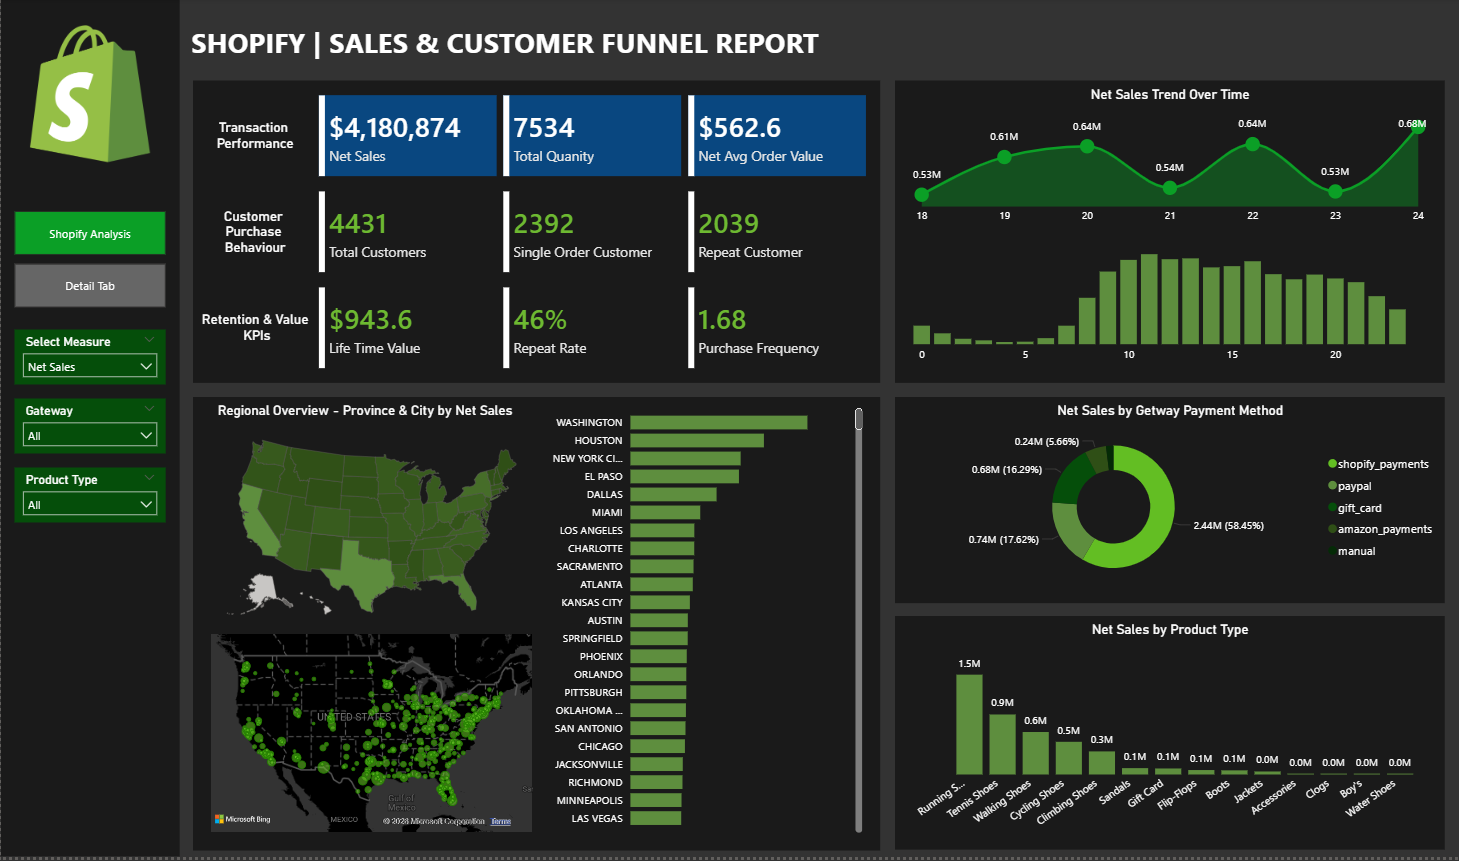

This screenshot's page, from the dashboard's own definition file:
{"tool":"powerbi","page":{"name":"Shopify Analysis ","canvas":[1700,1000],"ordinal":0},"visuals":[{"type":"shape","box":[0,-8,208,1008],"z":0},{"type":"textbox","box":[216,24,768,120],"z":1000},{"type":"shape","box":[224,96,800,352],"z":2000},{"type":"cardVisual","fields":{"Data":["shopify_sales.Net Sales","shopify_sales.Total Quanity","shopify_sales.Net Avg Order Value"]},"box":[352,96,672,128],"z":3000},{"type":"card","fields":{"Values":["shopify_sales.Transaction Pref"]},"box":[224,112,144,96],"z":4000},{"type":"cardVisual","fields":{"Data":["shopify_sales.Total Customers","shopify_sales.Single Order Customer","shopify_sales.Repeat Customer"]},"box":[352,208,672,128],"z":5000},{"type":"card","fields":{"Values":["shopify_sales.Customer Purchase Behaviour"]},"box":[224,224,144,96],"z":6000},{"type":"cardVisual","fields":{"Data":["shopify_sales.Life Time Value","shopify_sales.Repeat Rate","shopify_sales.Purchase Frequency"]},"box":[352,320,672,128],"z":7000},{"type":"card","fields":{"Values":["shopify_sales.Retention and Value KPIs"]},"box":[224,336,144,96],"z":8000},{"type":"shape","box":[224,464,800,528],"z":9000},{"type":"shapeMap","fields":{"Category":["shopify_sales.Billing Address Province"],"Value":["shopify_sales.Net Sales"]},"box":[240,496,384,240],"z":10000},{"type":"slicer","fields":{"Values":["Select Measure.Select Measure"]},"box":[15.3,386.4,176,64],"z":11000},{"type":"map","fields":{"Size":["shopify_sales.Net Sales"],"Category":["shopify_sales.Location"]},"box":[240,736,384,240],"z":12000},{"type":"clusteredBarChart","fields":{"Y":["shopify_sales.Net Sales"],"Category":["shopify_sales.CITY"]},"box":[624,464,384,512],"z":13000},{"type":"card","fields":{"Values":["shopify_sales.Map"]},"box":[224,464,400,32],"z":14000},{"type":"shape","box":[1040,96,640,352],"z":15000},{"type":"areaChart","fields":{"Y":["shopify_sales.Net Sales"],"Category":["shopify_sales.Invoice Date.Variation.Date Hierarchy.Day"]},"box":[1056,128,608,144],"z":16000},{"type":"columnChart","fields":{"Y":["shopify_sales.Net Sales"],"Category":["shopify_sales.1 Hour"]},"box":[1056,256,608,176],"z":17000},{"type":"card","fields":{"Values":["shopify_sales.Trend Title"]},"box":[1040,96,640,32],"z":18000},{"type":"shape","box":[1040,464,640,240],"z":19000},{"type":"donutChart","fields":{"Y":["shopify_sales.Net Sales"],"Category":["shopify_sales.Gateway"]},"box":[1040,496,640,192],"z":20000},{"type":"shape","box":[1040,720,640,272],"z":21000},{"type":"columnChart","fields":{"Y":["shopify_sales.Net Sales"],"Category":["shopify_sales.Product Type"]},"box":[1056,752,608,224],"z":22000},{"type":"card","fields":{"Values":["shopify_sales.Getway Title"]},"box":[1040,464,640,32],"z":23000},{"type":"card","fields":{"Values":["shopify_sales.Product Title"]},"box":[1040,720,640,32],"z":24000},{"type":"image","box":[16,32,176,160],"z":25000},{"type":"slicer","fields":{"Values":["shopify_sales.Gateway"]},"box":[15.3,466.4,176,64],"z":26000},{"type":"slicer","fields":{"Values":["shopify_sales.Product Type"]},"box":[15.3,546.4,176,64],"z":27000},{"type":"pageNavigator","box":[16,248,176,112],"z":28000}]}

Visuals, with their boxes on the page's 1700x1000 design canvas (x1, y1, x2, y2). These are canvas units, not pixel positions in the 1459x861 screenshot, which may show the page scaled, cropped or inside an application window:
shape: <region>0, -8, 208, 1000</region>
textbox: <region>216, 24, 984, 144</region>
shape: <region>224, 96, 1024, 448</region>
cardVisual - shopify_sales.Net Sales x shopify_sales.Total Quanity: <region>352, 96, 1024, 224</region>
card - shopify_sales.Transaction Pref: <region>224, 112, 368, 208</region>
cardVisual - shopify_sales.Total Customers x shopify_sales.Single Order Customer: <region>352, 208, 1024, 336</region>
card - shopify_sales.Customer Purchase Behaviour: <region>224, 224, 368, 320</region>
cardVisual - shopify_sales.Life Time Value x shopify_sales.Repeat Rate: <region>352, 320, 1024, 448</region>
card - shopify_sales.Retention and Value KPIs: <region>224, 336, 368, 432</region>
shape: <region>224, 464, 1024, 992</region>
shapeMap - shopify_sales.Billing Address Province x shopify_sales.Net Sales: <region>240, 496, 624, 736</region>
slicer - Select Measure.Select Measure: <region>15, 386, 191, 450</region>
map - shopify_sales.Net Sales x shopify_sales.Location: <region>240, 736, 624, 976</region>
clusteredBarChart - shopify_sales.Net Sales x shopify_sales.CITY: <region>624, 464, 1008, 976</region>
card - shopify_sales.Map: <region>224, 464, 624, 496</region>
shape: <region>1040, 96, 1680, 448</region>
areaChart - shopify_sales.Net Sales x shopify_sales.Invoice Date.Variation.Date Hierarchy.Day: <region>1056, 128, 1664, 272</region>
columnChart - shopify_sales.Net Sales x shopify_sales.1 Hour: <region>1056, 256, 1664, 432</region>
card - shopify_sales.Trend Title: <region>1040, 96, 1680, 128</region>
shape: <region>1040, 464, 1680, 704</region>
donutChart - shopify_sales.Net Sales x shopify_sales.Gateway: <region>1040, 496, 1680, 688</region>
shape: <region>1040, 720, 1680, 992</region>
columnChart - shopify_sales.Net Sales x shopify_sales.Product Type: <region>1056, 752, 1664, 976</region>
card - shopify_sales.Getway Title: <region>1040, 464, 1680, 496</region>
card - shopify_sales.Product Title: <region>1040, 720, 1680, 752</region>
image: <region>16, 32, 192, 192</region>
slicer - shopify_sales.Gateway: <region>15, 466, 191, 530</region>
slicer - shopify_sales.Product Type: <region>15, 546, 191, 610</region>
pageNavigator: <region>16, 248, 192, 360</region>
